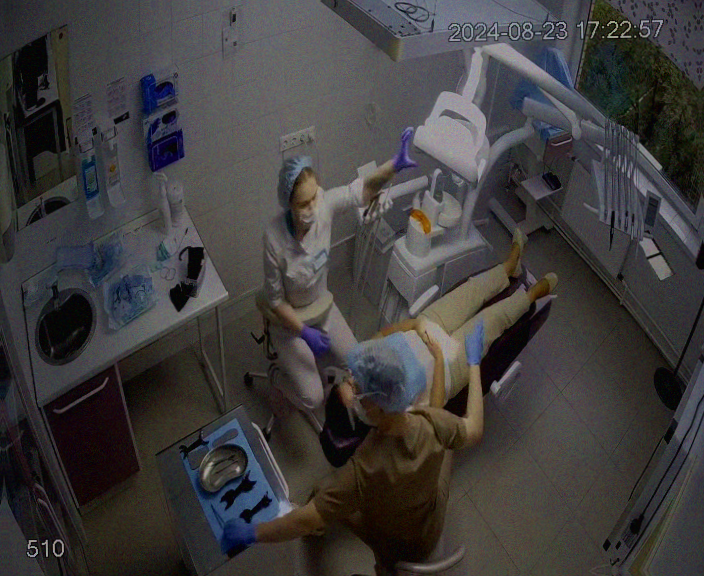Patient: (316, 225, 562, 469)
